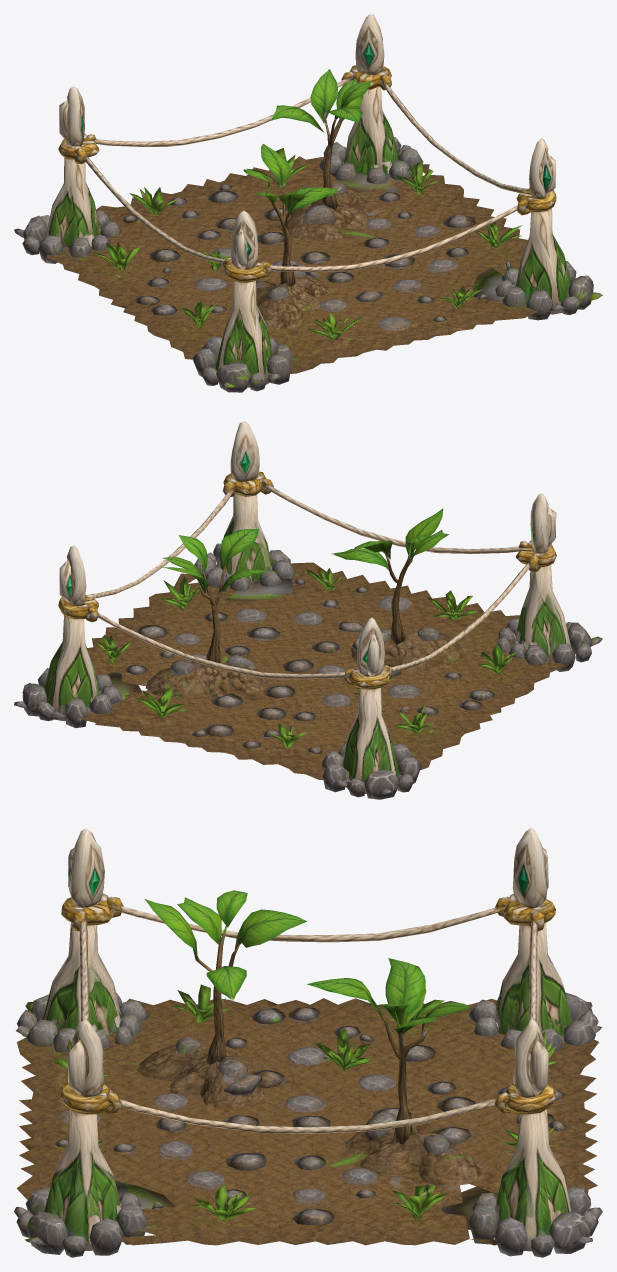
The model's file is arboles-frutales_e1.glb.
The picture shows the model from 3 angles, top to bottom: view 1: azimuth 30°, elevation 25°; view 2: azimuth 150°, elevation 25°; view 3: azimuth 270°, elevation 25°; orthographic projection. The views are drawn at different scales.
Visible parts, largest first — view 1: arboles-frutales_cuerpo; view 2: arboles-frutales_cuerpo; view 3: arboles-frutales_cuerpo.
Boxes of the visible parts, x1,y1,x2,y2 form: arboles-frutales_cuerpo: [14, 14, 602, 392]; arboles-frutales_cuerpo: [14, 421, 602, 799]; arboles-frutales_cuerpo: [14, 828, 602, 1257].
Size of the model in its own units: 1.9 by 0.7591 by 1.89.
1 material, 1 textured.
